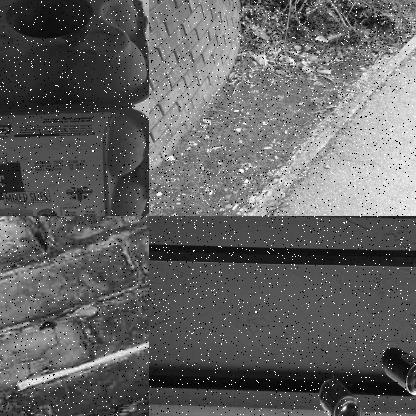cardboard: (0, 0, 148, 215)
metal: (381, 340, 415, 407), (314, 371, 365, 415)
plastic: (8, 324, 148, 402)
